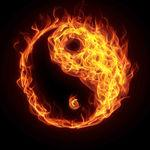fire: (84, 33, 134, 82)
